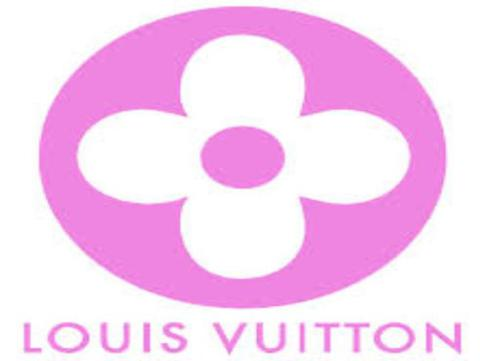LOUIS-VUITTON: (13, 308, 470, 361)
